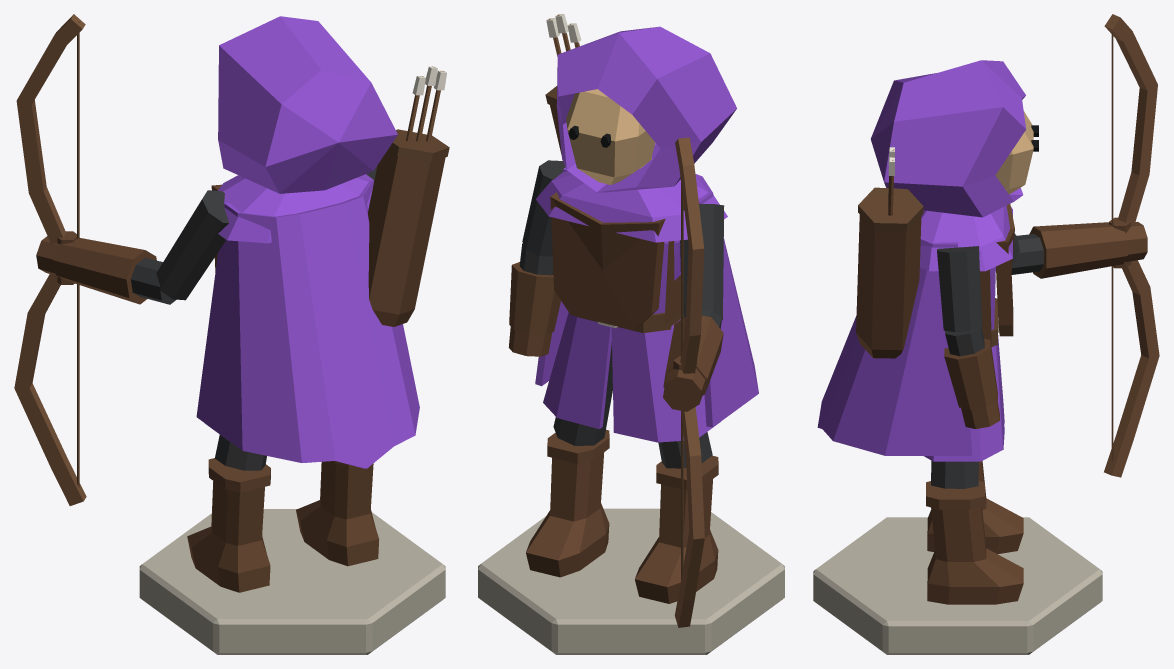
The model's file is human_archer_t3.glb.
The picture shows the model from 3 angles, left to right: view 1: azimuth 30°, elevation 25°; view 2: azimuth 150°, elevation 25°; view 3: azimuth 270°, elevation 25°; orthographic projection. The views are drawn at different scales.
Parts seen in each view (by area): view 1: archer_Wrapped_Back_Cape, Foundation_Hexagonal_Stone, Pointed_Open_Hood_Shell, Single_Right_Back_Quiver, Continuous_Recurve_Bow, Boot_-1, Boot_1, Continuous_Shoulder_Mantle, left_upper_sleeve, left_bracer, Boot_Cuff_-1, Taut_Bow_String (+3 smaller); view 2: Foundation_Hexagonal_Stone, Pointed_Open_Hood_Shell, leather_jerkin, Continuous_Recurve_Bow, Boot_1, archer_Wrapped_Back_Cape, Continuous_Shoulder_Mantle, Angular_Face, Boot_-1, Split_Tunic_Front_1, Split_Tunic_Front_-1, Continuous_Split_Tunic_Skirt (+15 smaller); view 3: Foundation_Hexagonal_Stone, Pointed_Open_Hood_Shell, archer_Wrapped_Back_Cape, Single_Right_Back_Quiver, Continuous_Recurve_Bow, Boot_1, left_bracer, Continuous_Shoulder_Mantle, right_upper_sleeve, right_bracer, Boot_-1, Quiver_Mouth_Band (+11 smaller).
Boxes of the visible parts, x1,y1,x2,y2 form: archer_Wrapped_Back_Cape: (196, 174, 419, 468); Foundation_Hexagonal_Stone: (139, 509, 445, 654); Pointed_Open_Hood_Shell: (218, 16, 397, 193); Single_Right_Back_Quiver: (368, 140, 445, 326); Continuous_Recurve_Bow: (14, 14, 86, 505); Boot_-1: (187, 481, 270, 592); Boot_1: (296, 461, 379, 566); Continuous_Shoulder_Mantle: (218, 175, 373, 243); left_upper_sleeve: (156, 190, 228, 300); left_bracer: (53, 238, 156, 304); Boot_Cuff_-1: (208, 458, 270, 492); Taut_Bow_String: (77, 21, 79, 487); Foundation_Hexagonal_Stone: (478, 508, 784, 654); Pointed_Open_Hood_Shell: (556, 26, 736, 192); leather_jerkin: (550, 192, 665, 330); Continuous_Recurve_Bow: (674, 137, 704, 627); Boot_1: (526, 452, 609, 577); archer_Wrapped_Back_Cape: (535, 167, 758, 427); Continuous_Shoulder_Mantle: (536, 171, 727, 242); Angular_Face: (566, 89, 655, 184); Boot_-1: (635, 479, 718, 603); Split_Tunic_Front_1: (556, 317, 611, 429); Split_Tunic_Front_-1: (611, 327, 658, 442); Continuous_Split_Tunic_Skirt: (543, 312, 720, 442); Foundation_Hexagonal_Stone: (813, 517, 1102, 654); Pointed_Open_Hood_Shell: (870, 60, 1026, 217); archer_Wrapped_Back_Cape: (817, 237, 971, 455); Single_Right_Back_Quiver: (856, 189, 921, 358); Continuous_Recurve_Bow: (1104, 14, 1159, 477); Boot_1: (927, 507, 1023, 604); left_bracer: (1029, 222, 1127, 278); Continuous_Shoulder_Mantle: (920, 205, 1012, 271); right_upper_sleeve: (937, 246, 982, 331); right_bracer: (944, 338, 997, 409); Boot_-1: (927, 461, 1023, 554); Quiver_Mouth_Band: (858, 187, 923, 230).
Bounding box in the file's own units: 1.03 × 1.92 × 1.11.
